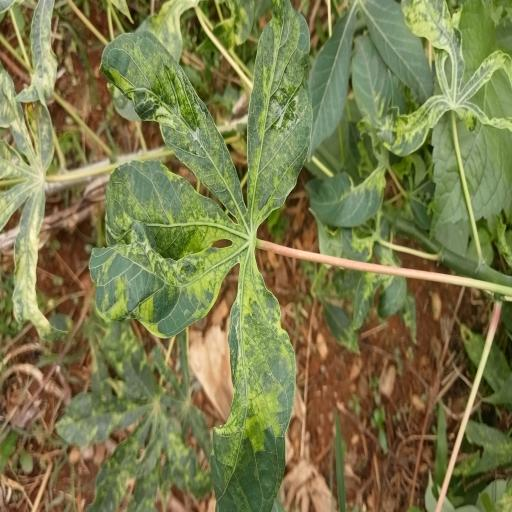Cassava_Mosaic: (88, 0, 314, 512)
